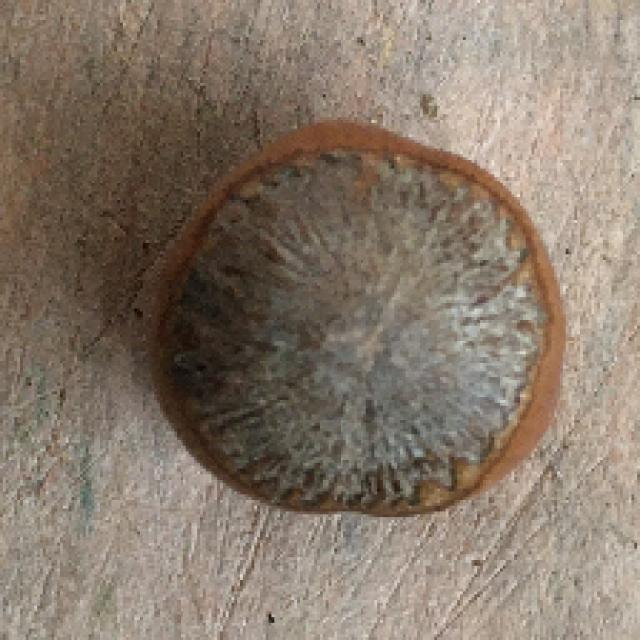damagedHazelnut: (149, 118, 570, 522)
